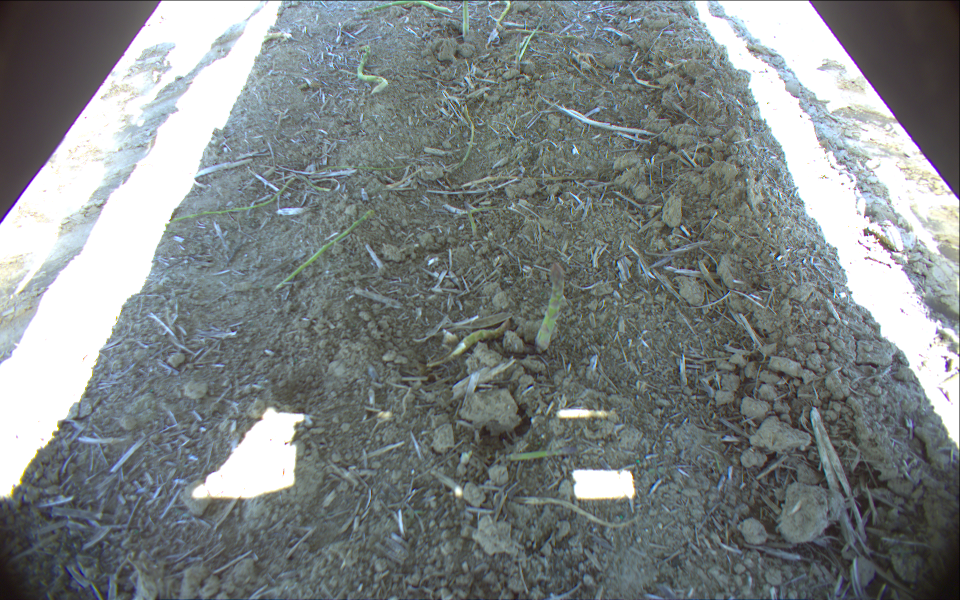aspa: (535, 262, 565, 356), (459, 1, 470, 41)
